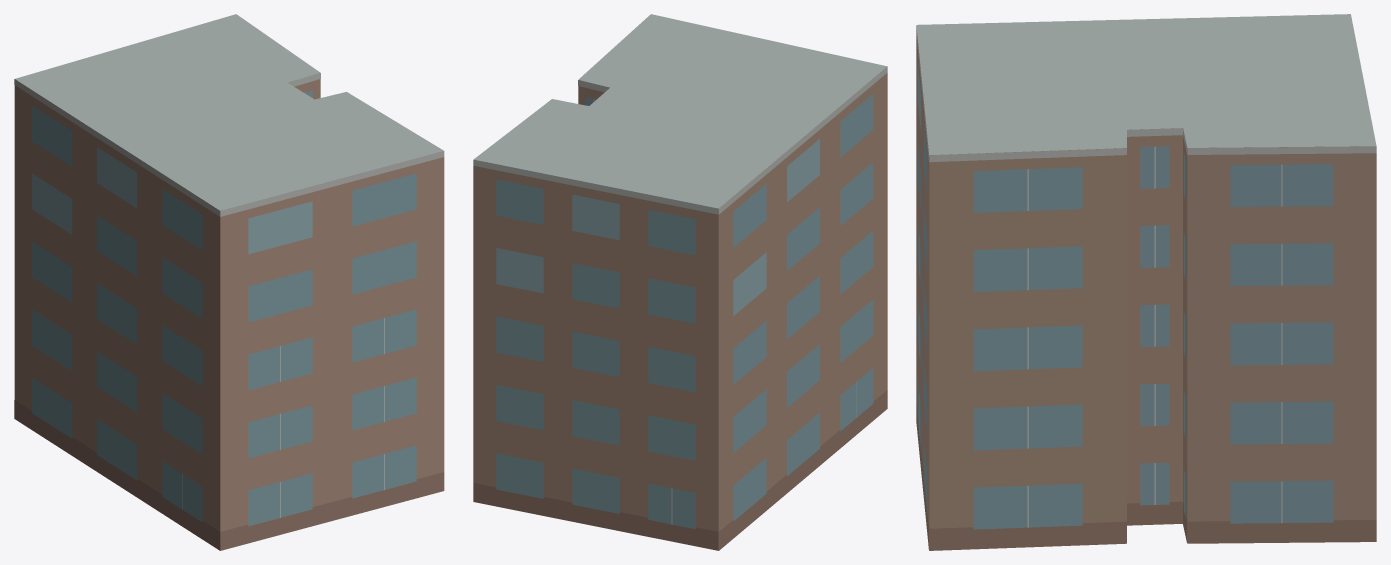
Rendered from survey-upis-32997645.glb.
3 views of the same model, side by side, from view 1: azimuth 30°, elevation 25°; view 2: azimuth 150°, elevation 25°; view 3: azimuth 270°, elevation 25° (orthographic). The views are drawn at different scales.
Parts seen in each view (by area): view 1: survey-upis-32997645.tmp; view 2: survey-upis-32997645.tmp; view 3: survey-upis-32997645.tmp.
Part boxes in pixels (x1,y1,x2,y2): survey-upis-32997645.tmp: (14, 14, 444, 550); survey-upis-32997645.tmp: (473, 14, 887, 550); survey-upis-32997645.tmp: (916, 14, 1376, 550).
Size of the model in its own units: 10.49 by 13.7 by 14.45.
